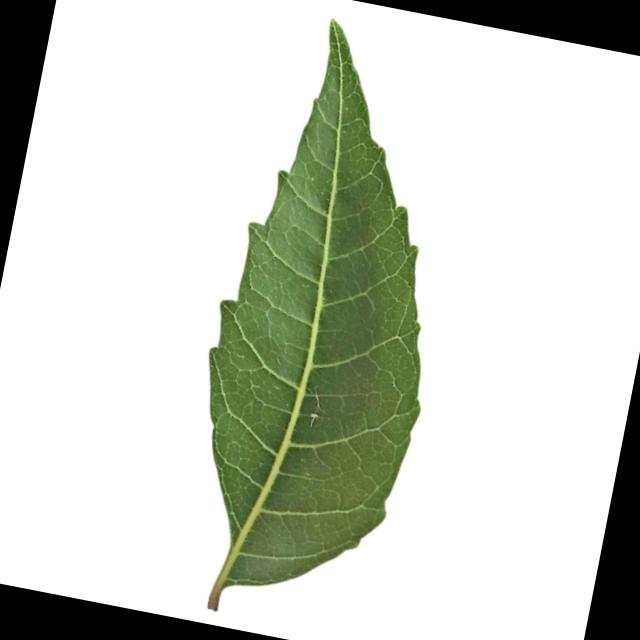Medicinal-Neem: (158, 1, 488, 640)
